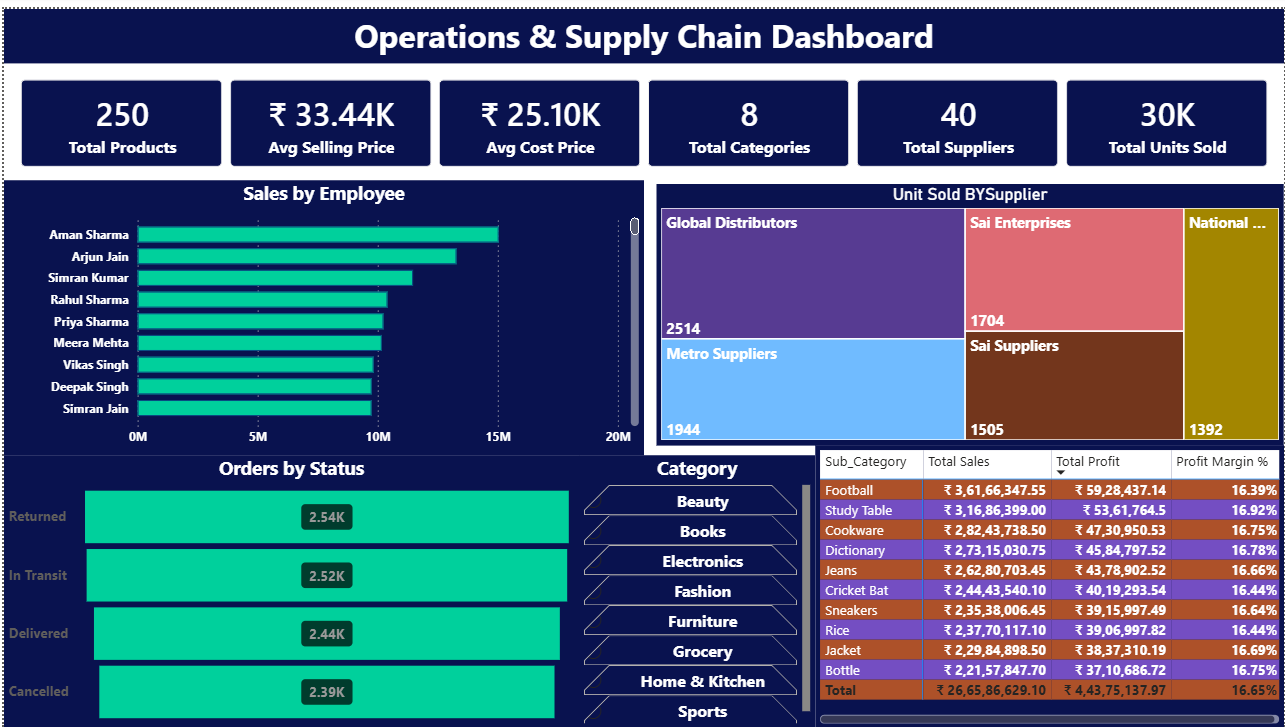

This screenshot's page, from the dashboard's own definition file:
{"tool":"powerbi","page":{"name":"Page 1","canvas":[1280,720],"ordinal":2},"visuals":[{"type":"cardVisual","fields":{"Data":["product_table.Total Products","product_table.Avg Selling Price","product_table.Avg Cost Price","fact_sale.Total Categories","supplier_table.Total Suppliers","fact_sale.Total Units Sold"]},"box":[0,54.3,1280,121.4],"z":0},{"type":"textbox","box":[0,0,1280,54.3],"z":1},{"type":"clusteredBarChart","title":"Sales by Employee","fields":{"Category":["employee_table.Employee_Name"],"Y":["Sum(fact_sale.Sales_Amount)"]},"box":[0,171.2,640,275],"z":2},{"type":"funnel","title":"Orders by Status","fields":{"Category":["fact_sale.Order_Status"],"Y":["Count(fact_sale.Order_ID)"]},"box":[0,446,575,274],"z":3},{"type":"treemap","title":"Unit Sold BYSupplier","fields":{"Group":["supplier_table.Supplier_Name"],"Values":["fact_sale.Total Units Sold"]},"box":[652.5,175,627.5,261.2],"z":4},{"type":"pivotTable","fields":{"Values":["fact_sale.Total Sales","fact_sale.Total Profit","fact_sale.Profit Margin %"],"Rows":["product_table.Sub_Category"]},"box":[811.2,436.2,468.8,283.8],"z":5},{"type":"listSlicer","fields":{"Values":["product_table.Category"]},"box":[575,446.2,236.2,273.8],"z":6}]}

Visuals, with their boxes in screenshot pixels (x1, y1, x2, y2), scaled from the page's 1280x720 canvas onto the 1285x727 screenshot:
cardVisual - product_table.Total Products x product_table.Avg Selling Price: (left=0, top=55, right=1284, bottom=177)
textbox: (left=0, top=0, right=1284, bottom=55)
"Sales by Employee" clusteredBarChart: (left=0, top=173, right=642, bottom=451)
"Orders by Status" funnel: (left=0, top=450, right=577, bottom=726)
"Unit Sold BYSupplier" treemap: (left=655, top=177, right=1284, bottom=440)
pivotTable - fact_sale.Total Sales x fact_sale.Total Profit: (left=814, top=440, right=1284, bottom=726)
listSlicer - product_table.Category: (left=577, top=451, right=814, bottom=726)
